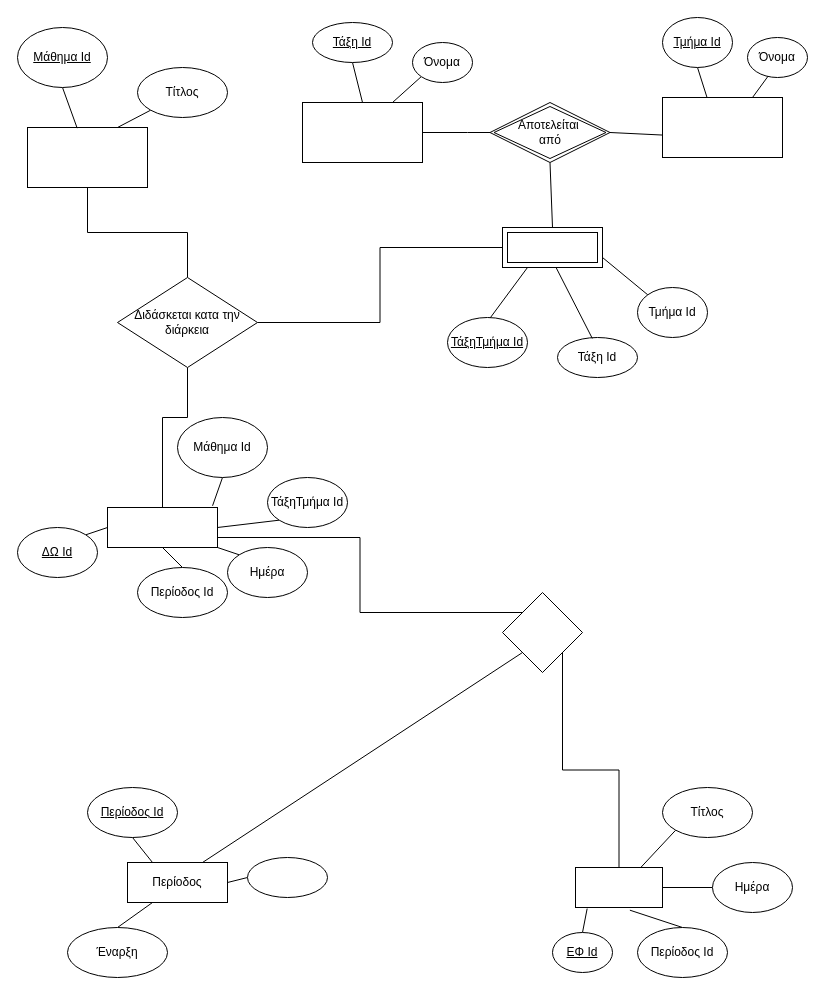
Image size: 825x995. Some labels were removed from this diagram. Here are the shapes that lost their labels. From the top down, the centre of each, then its label:
(362,132): Τάξη
(722,127): Τμήμα
(87,157): Μάθημα
(552,247): Τάξη ανα τμήμα
(162,527): Διδακτικές Ώρες
(542,632): Ορίζει χρόνους
(287,877): Τέλος
(618,887): Εφημερία
